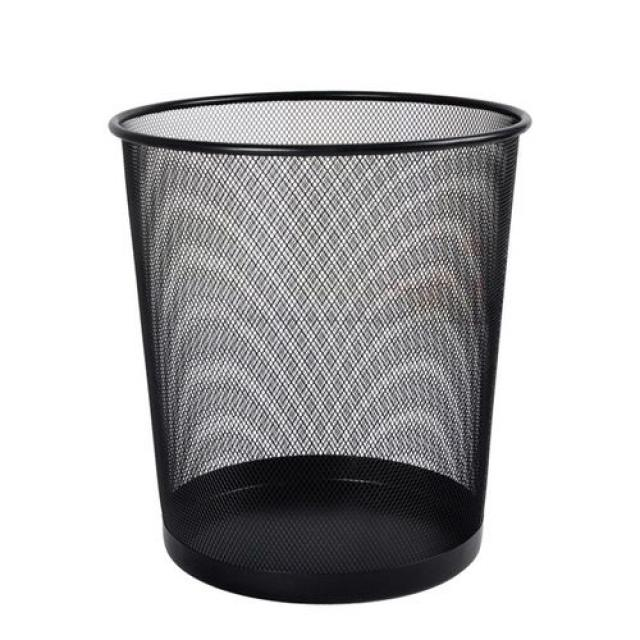Dustbin: (104, 84, 538, 610)
